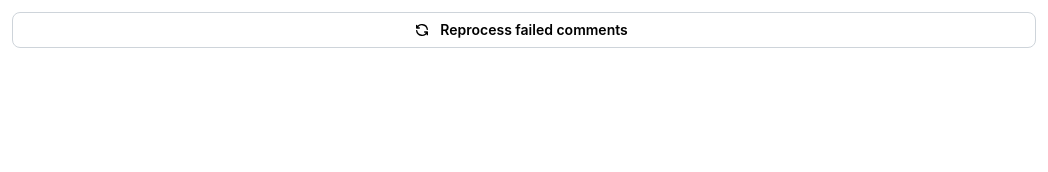
ReprocessButton › posts the version and reports how many comments were queued
The width and height of the screenshot is (1048, 172).
Click the button with test id "admin-reprocess" at (524, 30), box [12,12,1036,48]
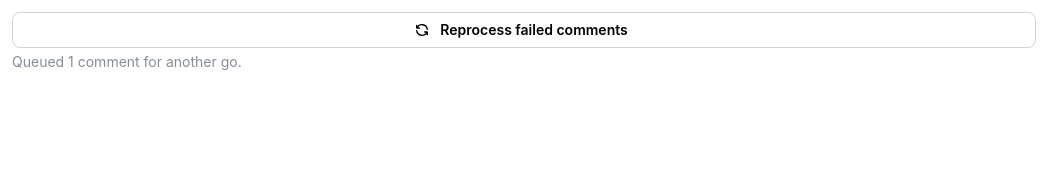
Expected: the text "Queued 1 comment for another go." is shown, [12,53,242,70]
